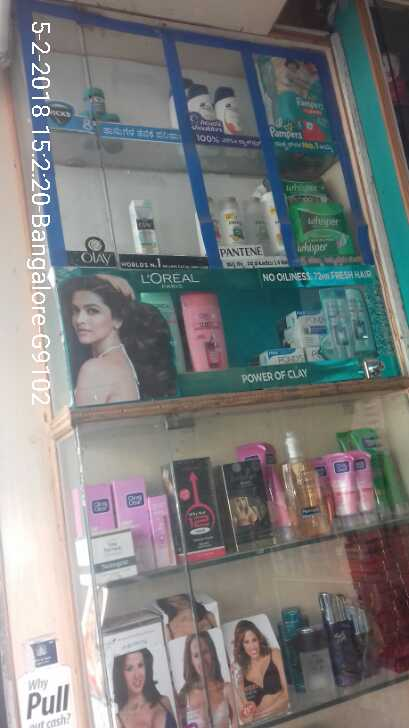vicks: (80, 82, 118, 131)
